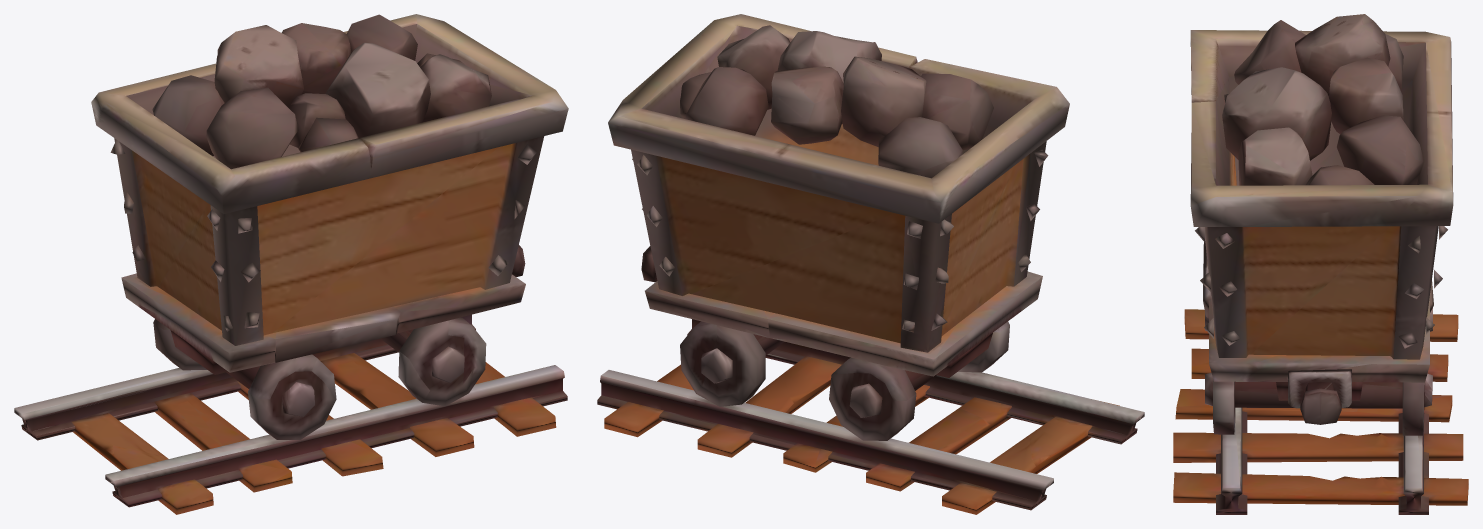
The model's file is mining_ore_cart.glb.
3 views of the same model, side by side, from view 1: azimuth 30°, elevation 25°; view 2: azimuth 150°, elevation 25°; view 3: azimuth 270°, elevation 25° (orthographic).
Parts seen in each view (by area): view 1: tripo_node_ce027bce-f6ea-4cdc-9307-aea37ebdea2b; view 2: tripo_node_ce027bce-f6ea-4cdc-9307-aea37ebdea2b; view 3: tripo_node_ce027bce-f6ea-4cdc-9307-aea37ebdea2b.
Boxes of the visible parts, box(x1,y1,x2,y2) form: tripo_node_ce027bce-f6ea-4cdc-9307-aea37ebdea2b: box(14, 14, 568, 514); tripo_node_ce027bce-f6ea-4cdc-9307-aea37ebdea2b: box(597, 14, 1144, 514); tripo_node_ce027bce-f6ea-4cdc-9307-aea37ebdea2b: box(1173, 14, 1468, 514).
Size of the model in its own units: 1.35 by 1.1 by 0.7713.
1 material, 1 textured.
